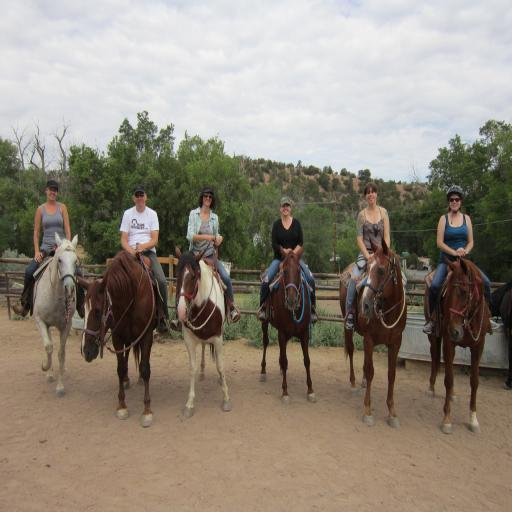horse: (78, 248, 159, 428), (338, 233, 408, 428), (422, 254, 492, 433), (174, 244, 231, 418), (258, 244, 318, 405), (30, 231, 80, 397)
